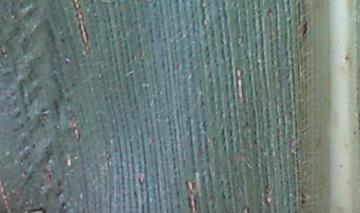tarspot: (301, 18, 309, 39), (55, 36, 68, 42), (45, 170, 53, 178), (60, 201, 68, 207), (19, 122, 25, 128), (152, 2, 158, 7)
